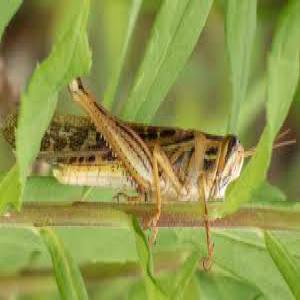locust: (4, 85, 255, 201)
